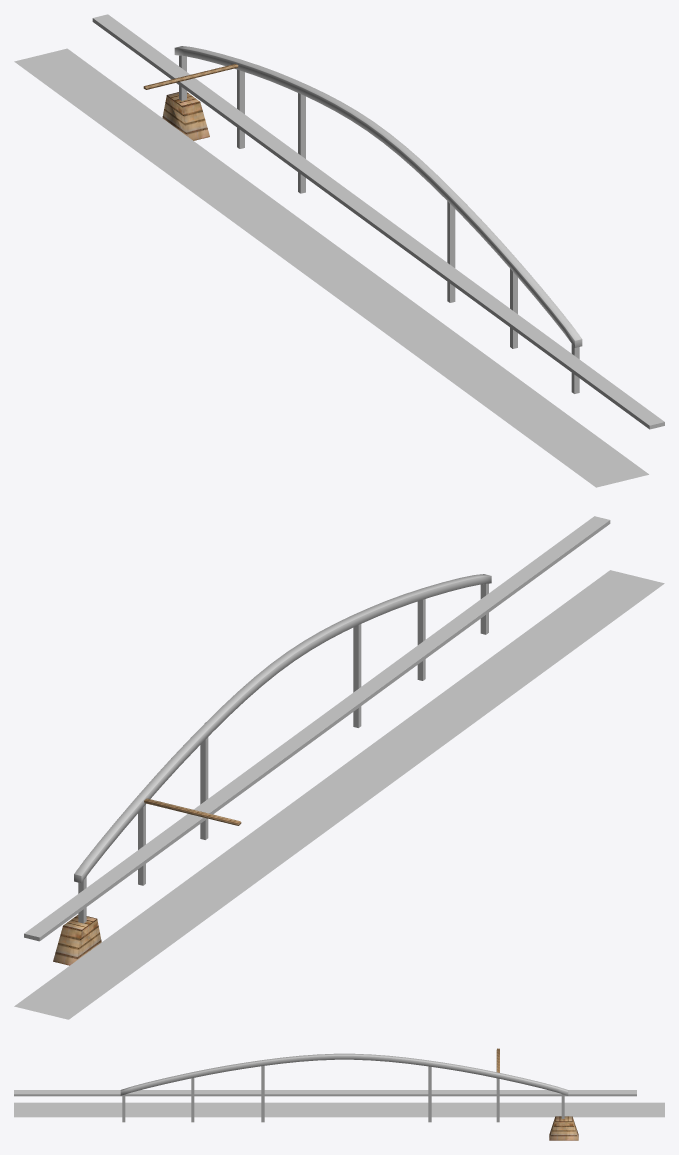
File: road-8.FBX
3 views of the same model, one above another, from view 1: azimuth 30°, elevation 25°; view 2: azimuth 150°, elevation 25°; view 3: azimuth 270°, elevation 25° (orthographic). The views are drawn at different scales.
Visible parts, largest first — view 1: road021, Box465, Object044, leg_clutches018, Box469; view 2: road021, Box465, Object044, leg_clutches018, Box469, Box468; view 3: road021, Box465, Object044, leg_clutches018, Box469, Box468, Box470, Box467.
Boxes of the visible parts, x1,y1,x2,y2 form: road021: (14,48,648,487); Box465: (92,14,664,429); Object044: (174,46,582,347); leg_clutches018: (162,92,209,140); Box469: (447,201,455,302); road021: (14,570,664,1019); Box465: (24,516,610,941); Object044: (74,574,491,883); leg_clutches018: (53,915,101,965); Box469: (353,624,361,727); Box468: (200,737,208,839); road021: (14,1102,664,1117); Box465: (14,1090,636,1096); Object044: (120,1053,568,1095); leg_clutches018: (549,1116,578,1140); Box469: (261,1066,264,1122); Box468: (428,1066,431,1122); Box470: (191,1078,194,1122); Box467: (496,1078,499,1122).
Size of the model in its own units: 236 by 297 by 2142.
